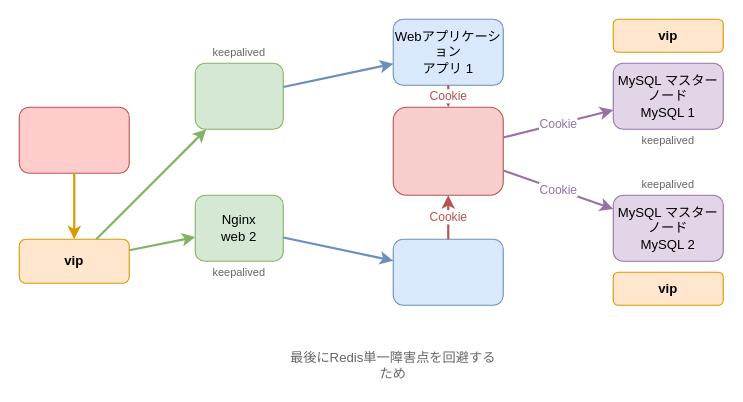
This 743x402 diagram has some shape labels left out. Here are the shapes that lost their labels. From the top down, the centre of each, then its label:
[238,95]: Nginx web 1
[73,139]: ドメイン解析 パブリックIP
[447,150]: Redis キャッシュ
[447,271]: Webアプリケーション アプリ 2
